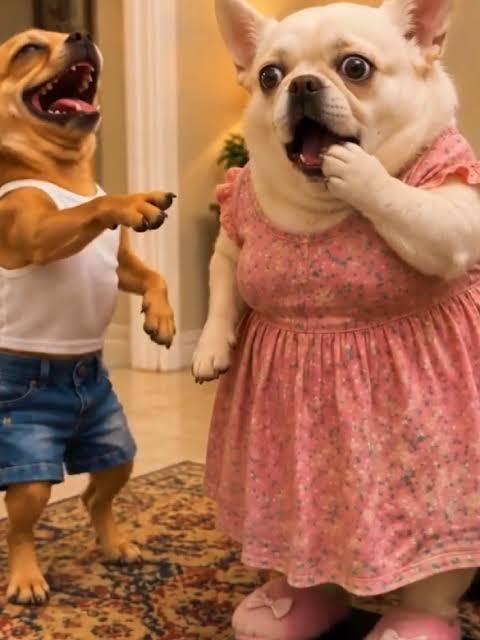adult_dog: (191, 1, 480, 640), (0, 27, 178, 606)
